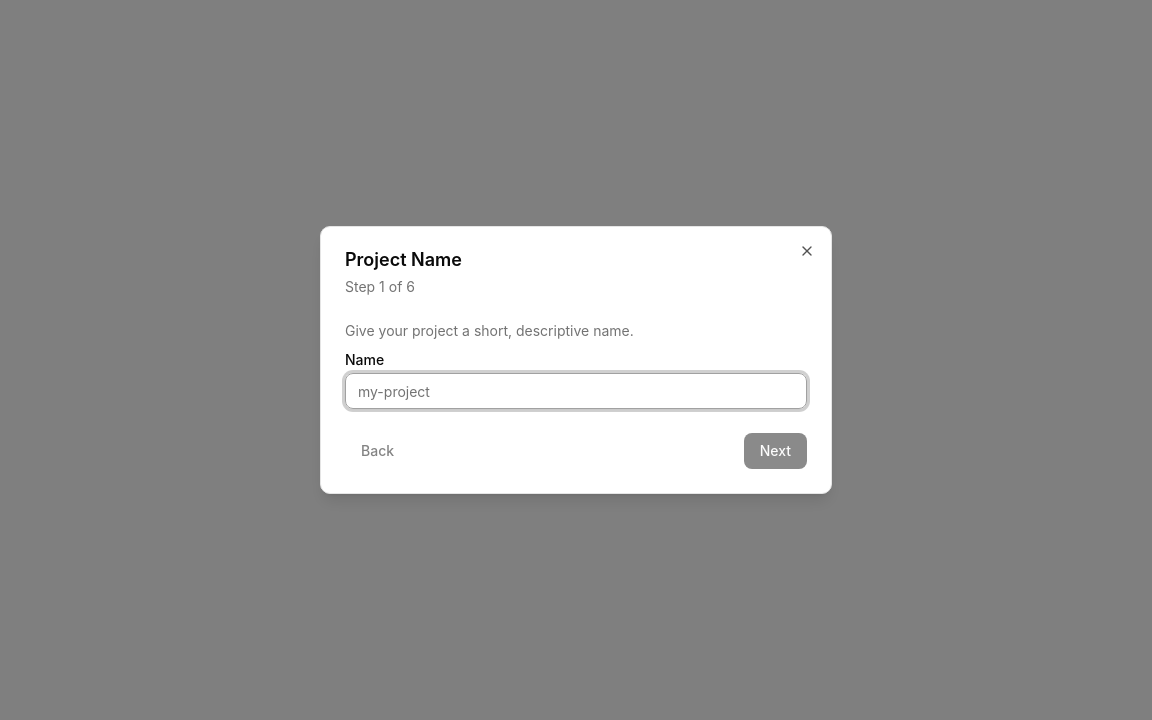
Test case: NewProjectWizard › returns to step 1 when Back is clicked from step 2
Type "my-app" into the field labelled "Name".
click(576, 391); type("my-app")  # box [345, 373, 807, 409]
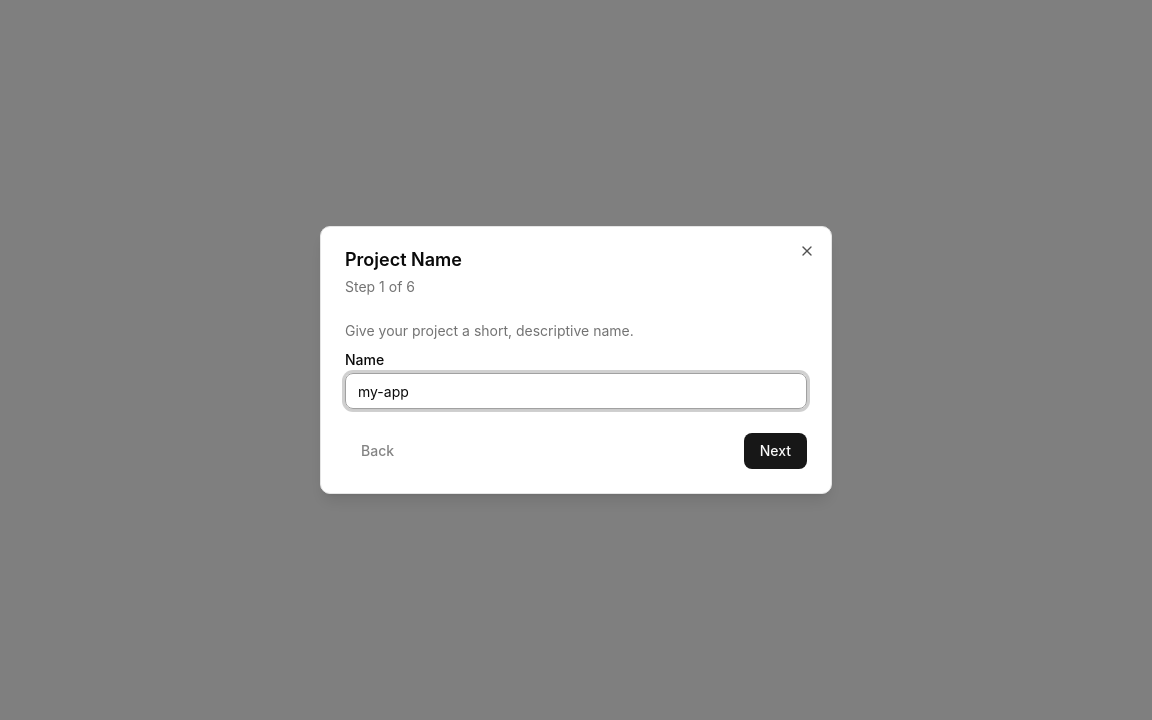
Click the button "Next".
click(775, 451)  # box [744, 433, 807, 469]
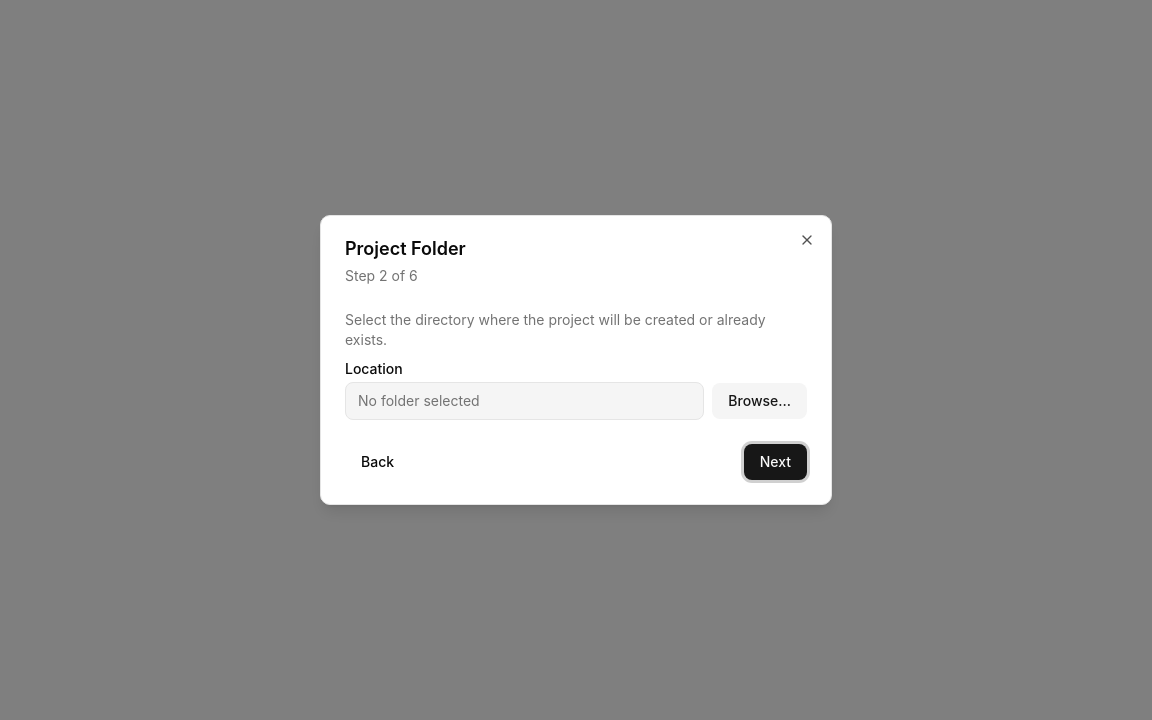
Now the heading "Project Folder" is shown, box [345, 238, 466, 259]
Click the button "Back".
click(378, 462)  # box [345, 444, 410, 480]
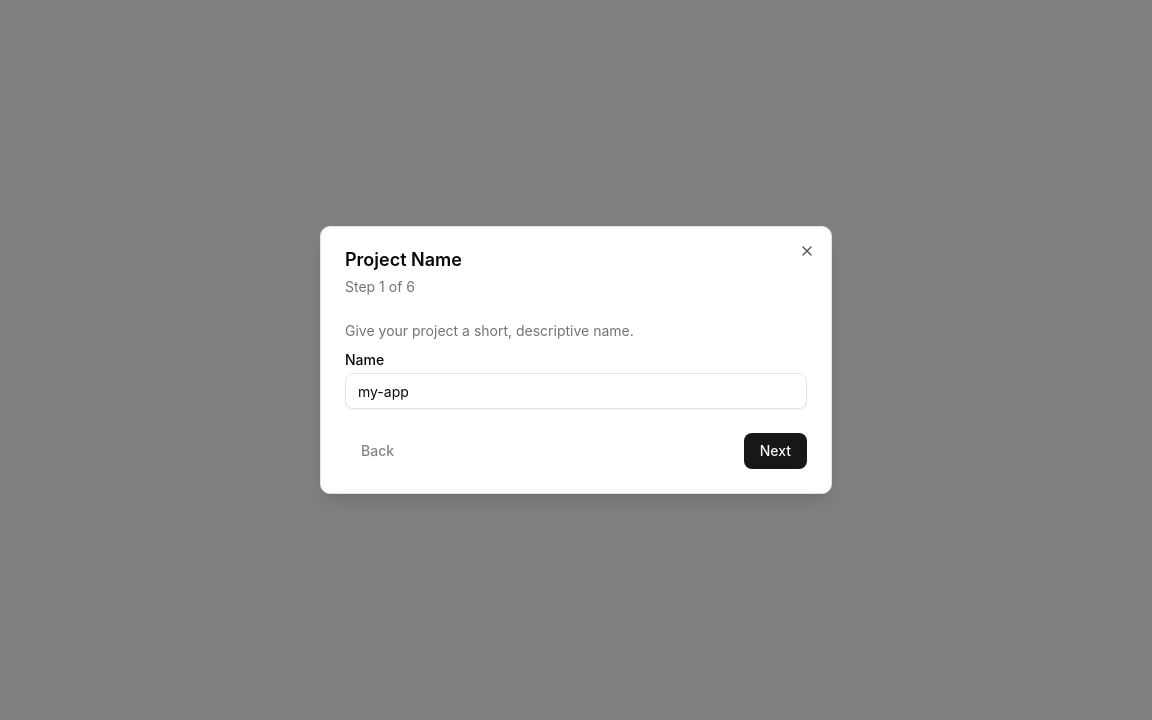
Now the heading "Project Name" is shown, box [345, 249, 462, 270]
